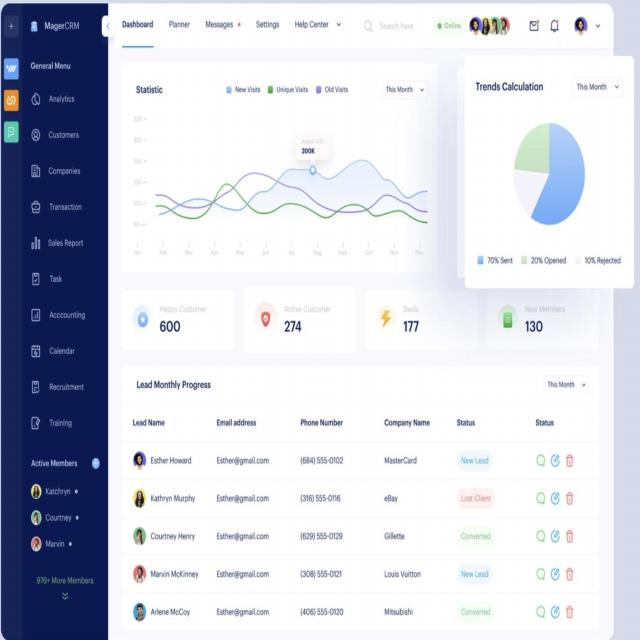button: (101, 14, 117, 39), (5, 14, 20, 36)
input: (359, 13, 422, 38)
select: (574, 76, 624, 96), (545, 374, 590, 395), (292, 16, 344, 33)
